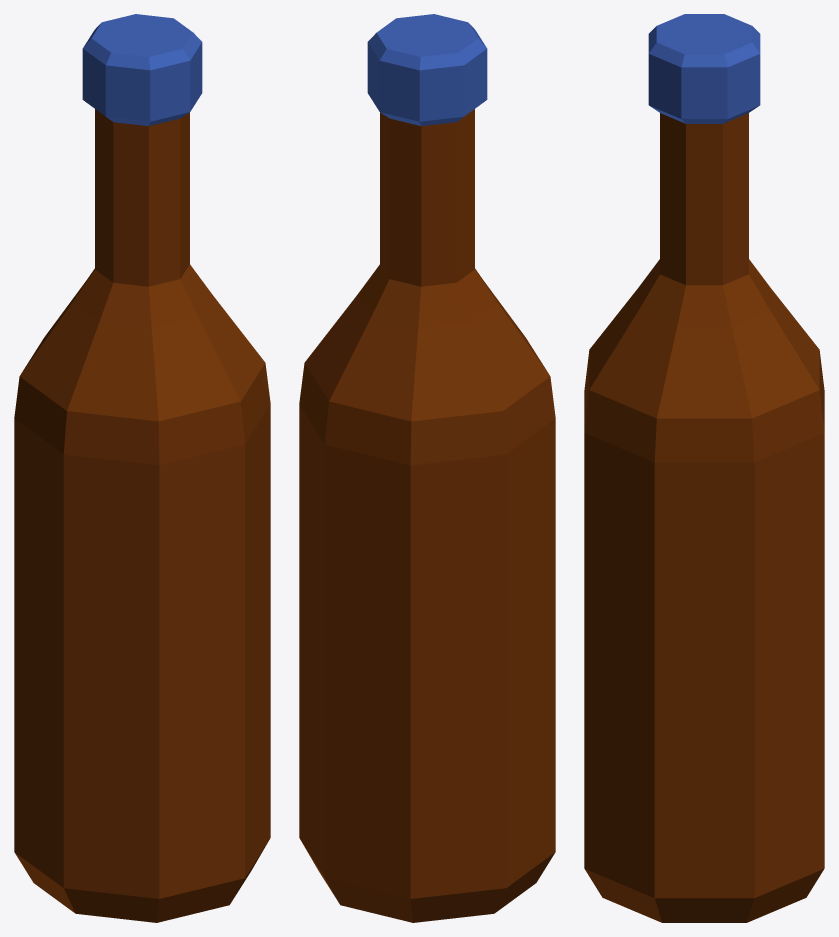
File: SM_Clutter_Bottle_Amber_01.glb
3 views of the same model, side by side, from view 1: azimuth 30°, elevation 25°; view 2: azimuth 150°, elevation 25°; view 3: azimuth 270°, elevation 25° (orthographic).
Parts seen in each view (by area): view 1: SM_Clutter_Bottle_Amber_01; view 2: SM_Clutter_Bottle_Amber_01; view 3: SM_Clutter_Bottle_Amber_01.
Part boxes in pixels (x1,y1,x2,y2): SM_Clutter_Bottle_Amber_01: [14, 14, 270, 922]; SM_Clutter_Bottle_Amber_01: [299, 14, 555, 922]; SM_Clutter_Bottle_Amber_01: [584, 14, 824, 922].
Size of the model in its own units: 0.0674 by 0.262 by 0.0674.
1 material, 1 textured.
